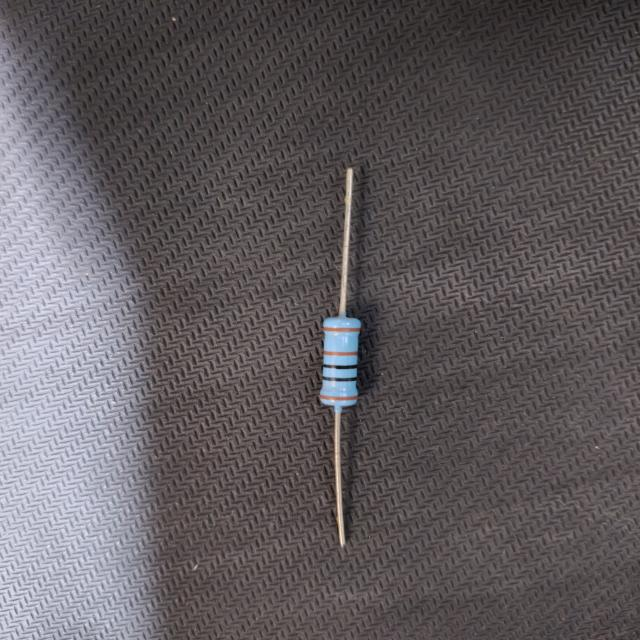resistor: (304, 148, 399, 544)
